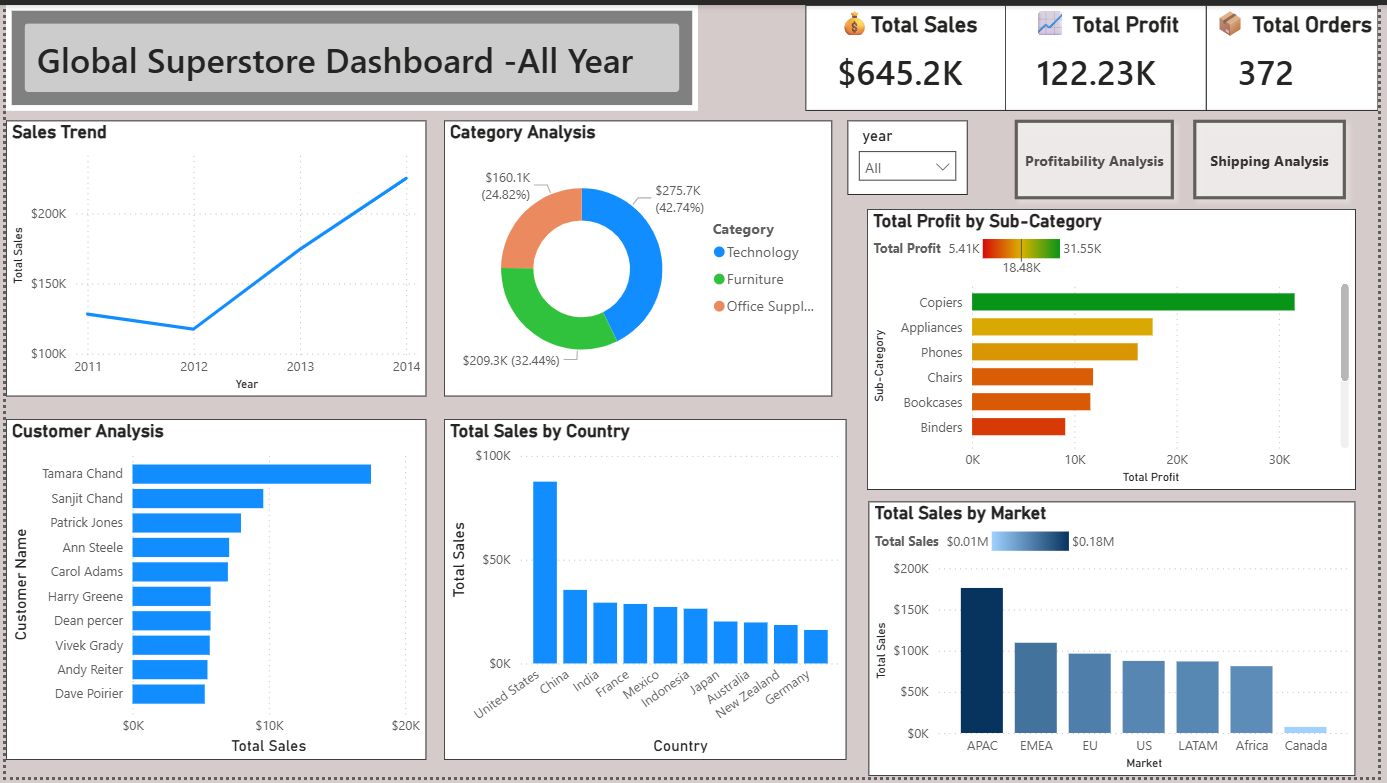

This screenshot's page, from the dashboard's own definition file:
{"tool":"powerbi","page":{"name":"Sales Overview","canvas":[1280,720],"ordinal":0},"visuals":[{"type":"cardVisual","title":"💰Total Sales","fields":{"Data":["fact_sales.Total Sales"]},"box":[745,0,189.3,98.4],"z":0},{"type":"cardVisual","title":"📈 Total Profit","fields":{"Data":["fact_sales.Total Profit"]},"box":[931.2,0,187.8,98.4],"z":1000},{"type":"cardVisual","title":"📦 Total Orders","fields":{"Data":["fact_sales.Total Orders"]},"box":[1119,0,160.5,98.4],"z":2000},{"type":"lineChart","title":"Sales Trend","fields":{"Category":["fact_sales.Order Date.Variation.Date Hierarchy.Year","fact_sales.Order Date.Variation.Date Hierarchy.Month"],"Y":["fact_sales.Total Sales"]},"box":[0,107.5,392.2,257.4],"z":3000},{"type":"donutChart","title":"Category Analysis","fields":{"Category":["product.Category"],"Y":["fact_sales.Total Sales"]},"box":[408.8,107.5,361.9,257.4],"z":4000},{"type":"barChart","fields":{"Category":["product.Sub-Category"],"Y":["fact_sales.Total Profit"]},"box":[802.5,190.8,455.8,262],"z":5000},{"type":"barChart","title":"Customer Analysis","fields":{"Category":["customer.Customer Name"],"Y":["fact_sales.Total Sales"]},"box":[0,386.1,392.2,318],"z":6000},{"type":"slicer","fields":{"Values":["DimDate.year"]},"box":[784.4,107.5,112.1,69.7],"z":7000},{"type":"columnChart","fields":{"Category":["fact_sales.Market"],"Y":["fact_sales.Total Sales"]},"box":[804,463.3,454.3,255.9],"z":8000},{"type":"columnChart","fields":{"Category":["fact_sales.Country"],"Y":["fact_sales.Total Sales"]},"box":[408.8,386.1,375.5,318],"z":9000},{"type":"actionButton","box":[931.2,98.4,166.6,92.4],"z":10000},{"type":"actionButton","box":[1097.8,98.4,160.5,92.4],"z":11000},{"type":"cardVisual","fields":{"Data":["fact_sales.dashboard title"]},"box":[0,0,645.1,98.4],"z":12000}]}

Visuals, with their boxes in screenshot pixels (x1, y1, x2, y2), scaled from the page's 1280x720 canvas onto the 1387x783 screenshot:
"💰Total Sales" cardVisual: x1=807, y1=0, x2=1012, y2=107
"📈 Total Profit" cardVisual: x1=1009, y1=0, x2=1213, y2=107
"📦 Total Orders" cardVisual: x1=1213, y1=0, x2=1386, y2=107
"Sales Trend" lineChart: x1=0, y1=117, x2=425, y2=397
"Category Analysis" donutChart: x1=443, y1=117, x2=835, y2=397
barChart - product.Sub-Category x fact_sales.Total Profit: x1=870, y1=207, x2=1363, y2=492
"Customer Analysis" barChart: x1=0, y1=420, x2=425, y2=766
slicer - DimDate.year: x1=850, y1=117, x2=971, y2=193
columnChart - fact_sales.Market x fact_sales.Total Sales: x1=871, y1=504, x2=1363, y2=782
columnChart - fact_sales.Country x fact_sales.Total Sales: x1=443, y1=420, x2=850, y2=766
actionButton: x1=1009, y1=107, x2=1190, y2=207
actionButton: x1=1190, y1=107, x2=1363, y2=207
cardVisual - fact_sales.dashboard title: x1=0, y1=0, x2=699, y2=107
